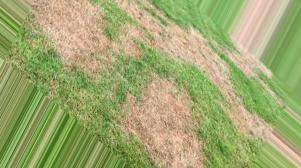patch: (135, 73, 192, 105), (50, 14, 98, 52), (127, 125, 195, 150), (212, 48, 244, 88), (169, 31, 200, 58), (105, 29, 136, 52), (231, 108, 257, 132), (137, 114, 177, 124), (55, 58, 92, 66), (225, 93, 242, 105), (197, 59, 208, 73)
